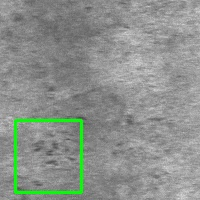rolled-in_scale: (15, 120, 81, 192)
